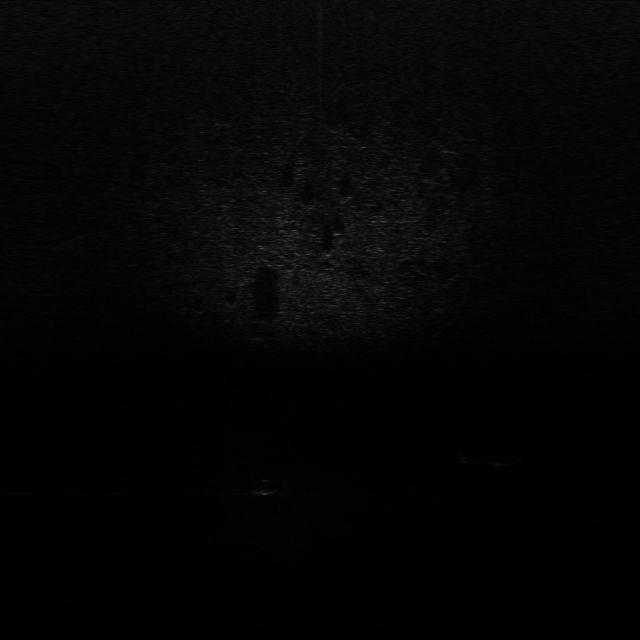ball: (244, 472, 284, 498)
human body: (456, 445, 536, 472)
